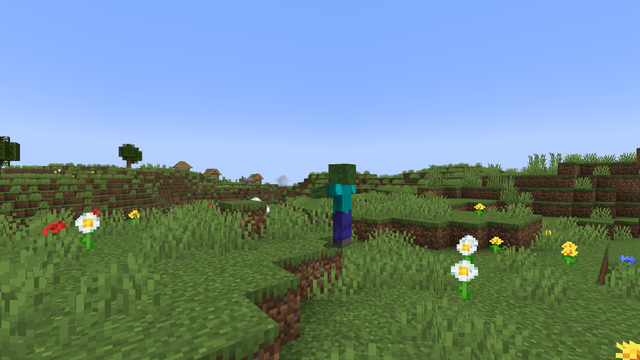zombies: (325, 165, 359, 249)
